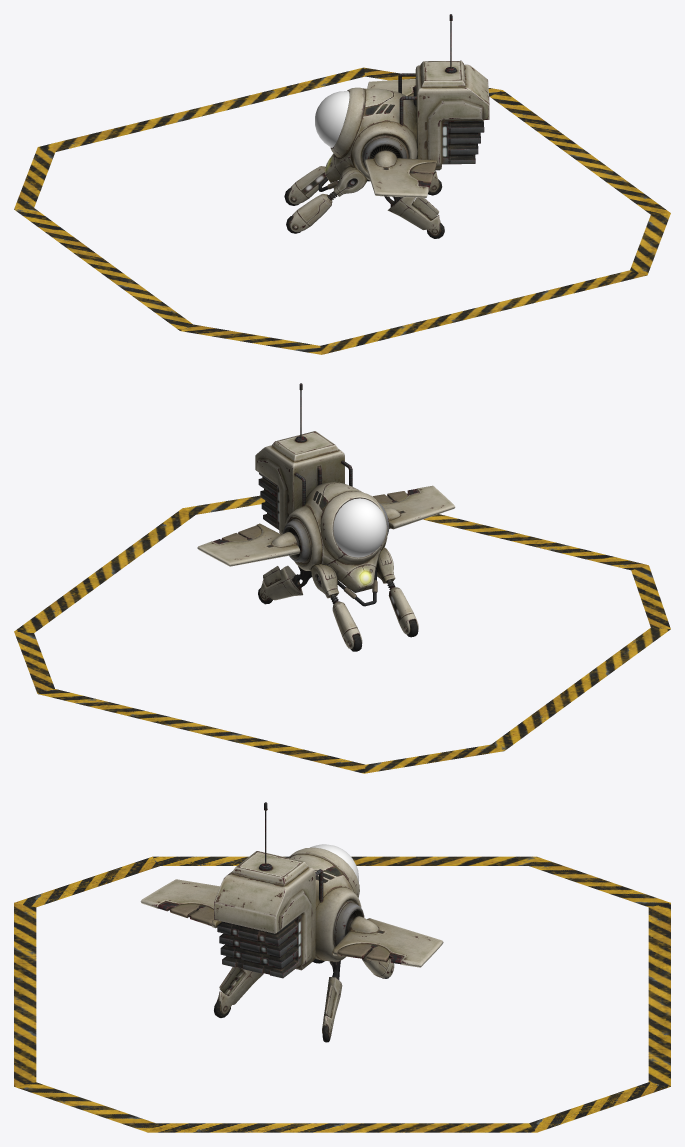
Rendered from unity.obj.
The picture shows the model from 3 angles, top to bottom: view 1: azimuth 30°, elevation 25°; view 2: azimuth 150°, elevation 25°; view 3: azimuth 270°, elevation 25°; orthographic projection. The views are drawn at different scales.
Parts seen in each view (by area): view 1: vehicle_rcFlyer_clean, floor_008, vehicle_rcFlyer_leg_frontLeft, vehicle_rcFlyer_leg_rearLeft, vehicle_rcFlyer_leg_frontRight; view 2: vehicle_rcFlyer_clean, floor_008, vehicle_rcFlyer_leg_frontRight, vehicle_rcFlyer_leg_frontLeft, vehicle_rcFlyer_leg_rearRight; view 3: floor_008, vehicle_rcFlyer_clean, vehicle_rcFlyer_leg_rearLeft, vehicle_rcFlyer_leg_rearRight.
Boxes of the visible parts, x1=… form: vehicle_rcFlyer_clean: x1=315, y1=14, x2=489, y2=197; floor_008: x1=14, y1=67, x2=670, y2=354; vehicle_rcFlyer_leg_frontLeft: x1=286, y1=166, x2=367, y2=233; vehicle_rcFlyer_leg_rearLeft: x1=384, y1=196, x2=444, y2=238; vehicle_rcFlyer_leg_frontRight: x1=284, y1=166, x2=325, y2=205; vehicle_rcFlyer_clean: x1=197, y1=383, x2=455, y2=606; floor_008: x1=14, y1=495, x2=670, y2=773; vehicle_rcFlyer_leg_frontRight: x1=311, y1=564, x2=362, y2=651; vehicle_rcFlyer_leg_frontLeft: x1=376, y1=547, x2=418, y2=637; vehicle_rcFlyer_leg_rearRight: x1=258, y1=565, x2=311, y2=604; floor_008: x1=14, y1=856, x2=670, y2=1132; vehicle_rcFlyer_clean: x1=140, y1=802, x2=443, y2=978; vehicle_rcFlyer_leg_rearLeft: x1=214, y1=967, x2=263, y2=1017; vehicle_rcFlyer_leg_rearRight: x1=322, y1=960, x2=342, y2=1042.
Size of what is drawn, in the model's own units: 6.06 by 2.4 by 6.1.
